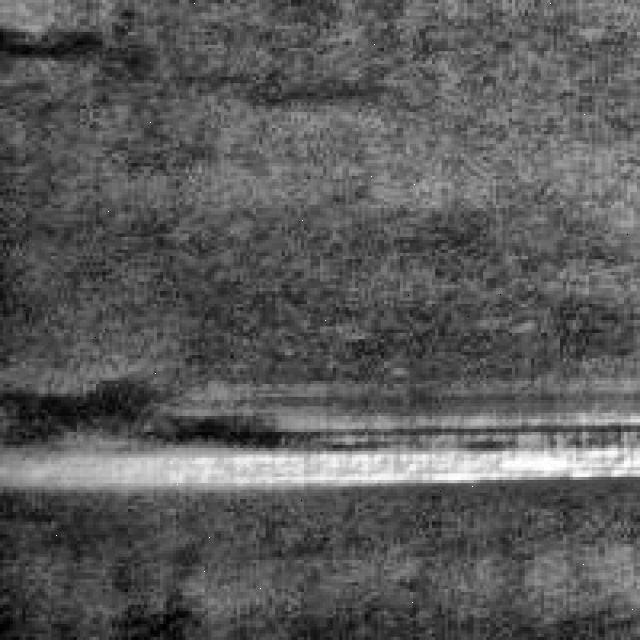Inclusion: (77, 378, 640, 483)
